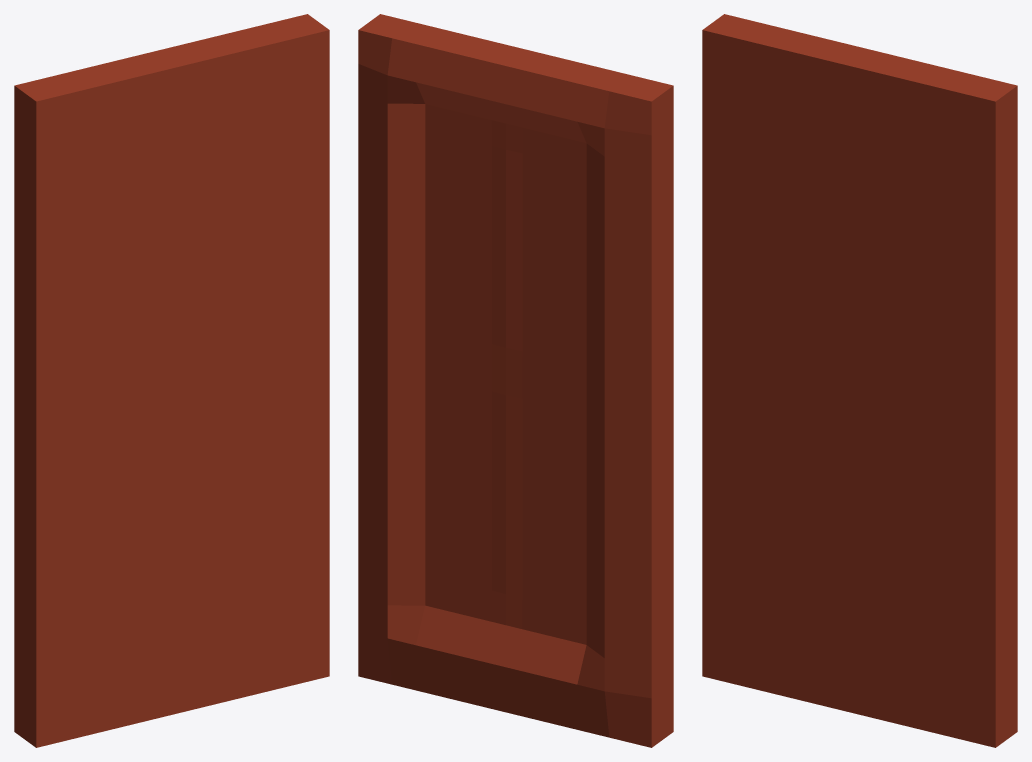
Rendered from door.fbx.
The picture shows the model from 3 angles, left to right: view 1: azimuth 30°, elevation 25°; view 2: azimuth 150°, elevation 25°; view 3: azimuth 330°, elevation 25°; orthographic projection.
Visible parts, largest first — view 1: Door.000; view 2: Door.000; view 3: Door.000.
Part boxes in pixels (x1,y1,x2,y2): Door.000: (14, 14, 329, 747); Door.000: (358, 14, 673, 747); Door.000: (702, 14, 1017, 747).
Size of the model in its own units: 94.99 by 200 by 14.89.
